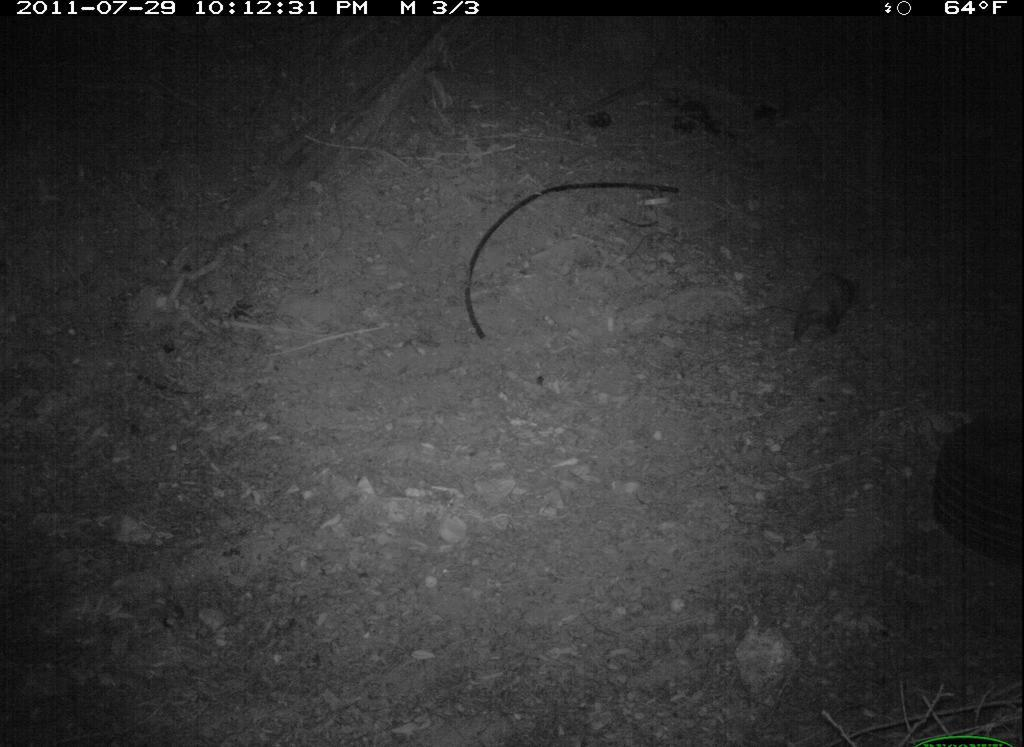opossum: (775, 262, 876, 350)
